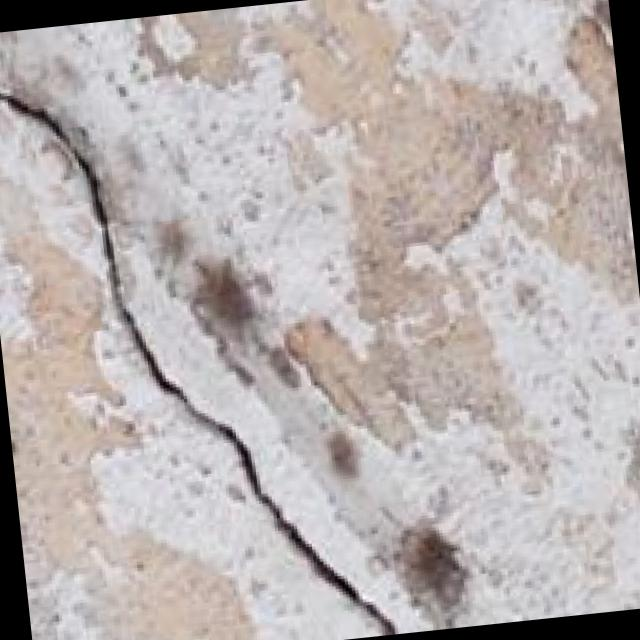crack: (0, 2, 442, 640)
